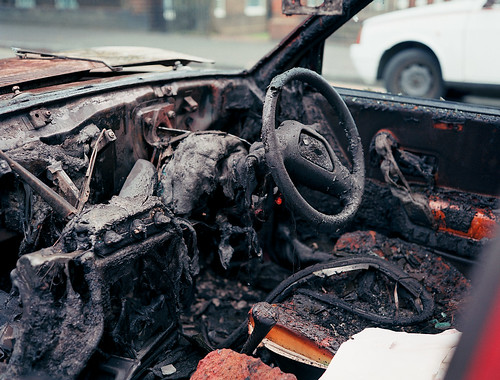car: (1, 9, 486, 363)
